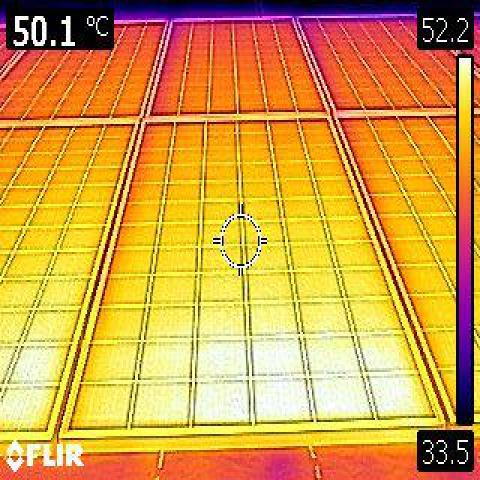fault: (204, 329, 394, 418)
